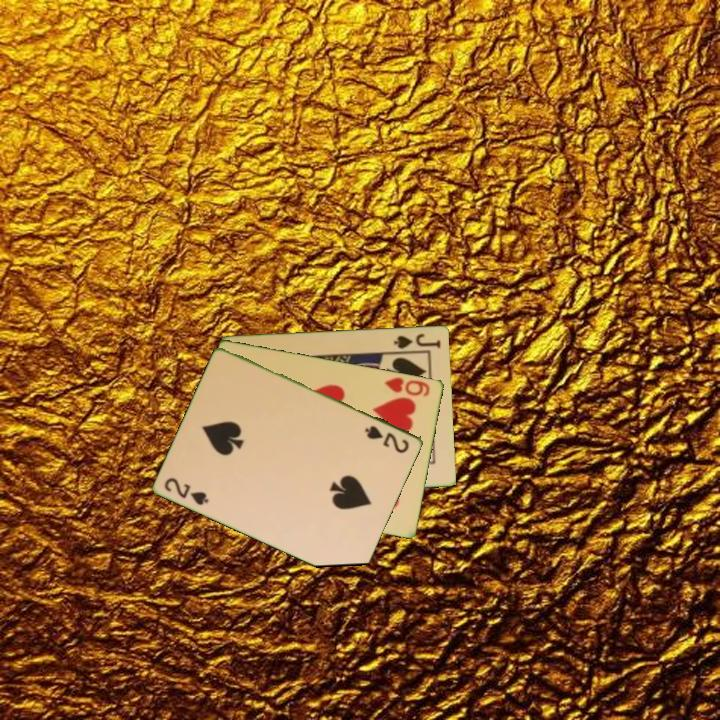2s: (361, 422, 412, 456), (161, 474, 212, 508)
6h: (381, 373, 433, 399)
Js: (391, 330, 444, 351)
